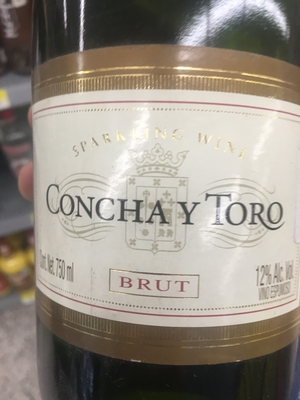brut: (27, 6, 299, 400)
